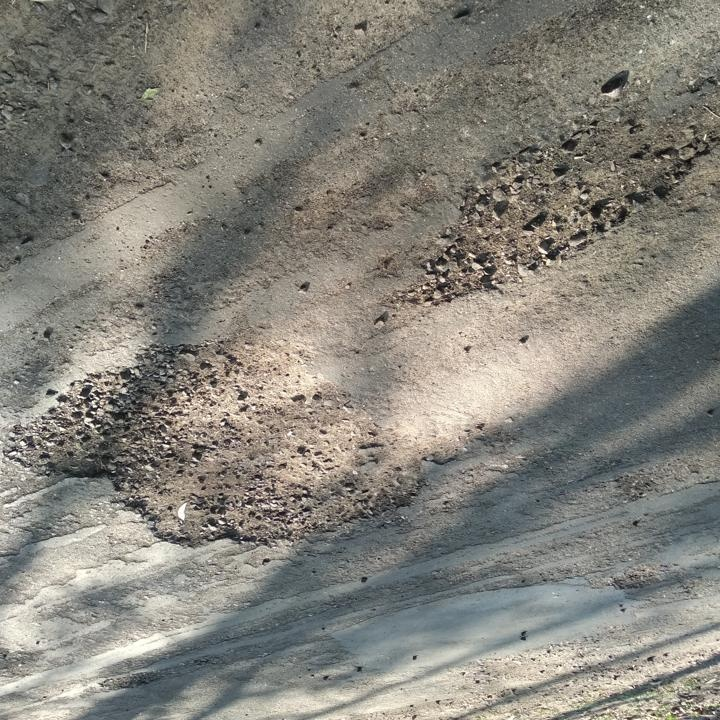pothole: (5, 337, 447, 555), (394, 113, 720, 309)
